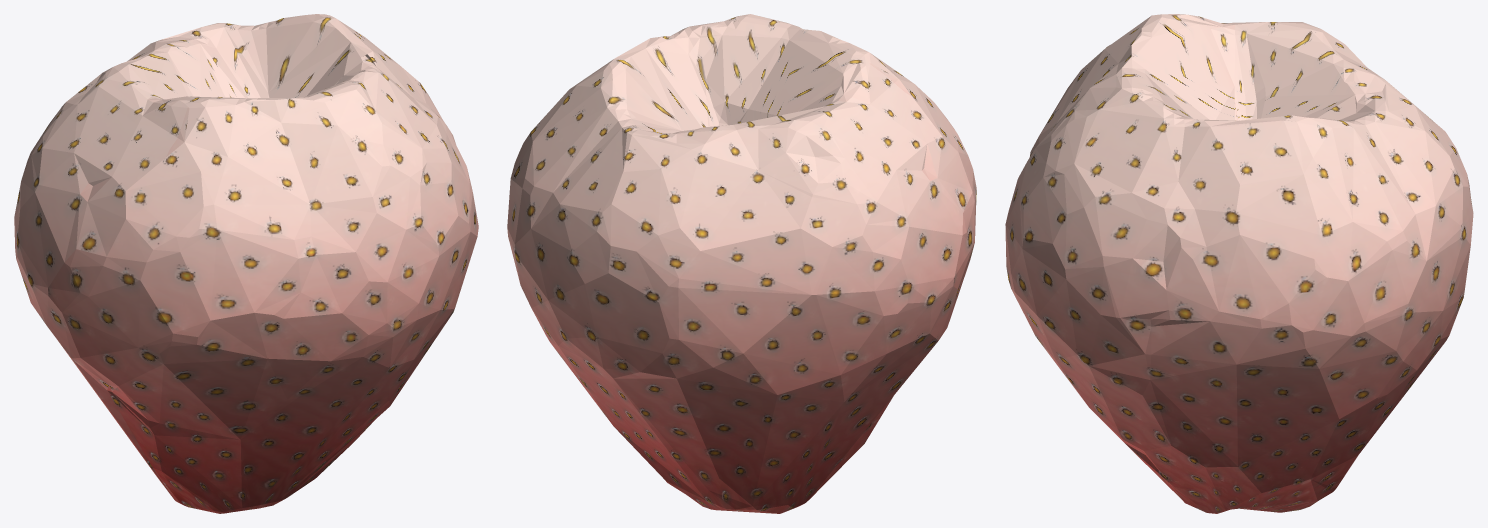
3 views of the same model, side by side, from view 1: azimuth 30°, elevation 25°; view 2: azimuth 150°, elevation 25°; view 3: azimuth 270°, elevation 25° (orthographic). The views are drawn at different scales.
Parts seen in each view (by area): view 1: _004_Meshed; view 2: _004_Meshed; view 3: _004_Meshed.
Boxes of the visible parts, bbox=[...] form: _004_Meshed: bbox=[14, 14, 478, 513]; _004_Meshed: bbox=[507, 14, 976, 513]; _004_Meshed: bbox=[1005, 14, 1473, 513].
Bounding box in the file's own units: 0.1098 × 0.1046 × 0.1135.
1 material, 1 textured.
